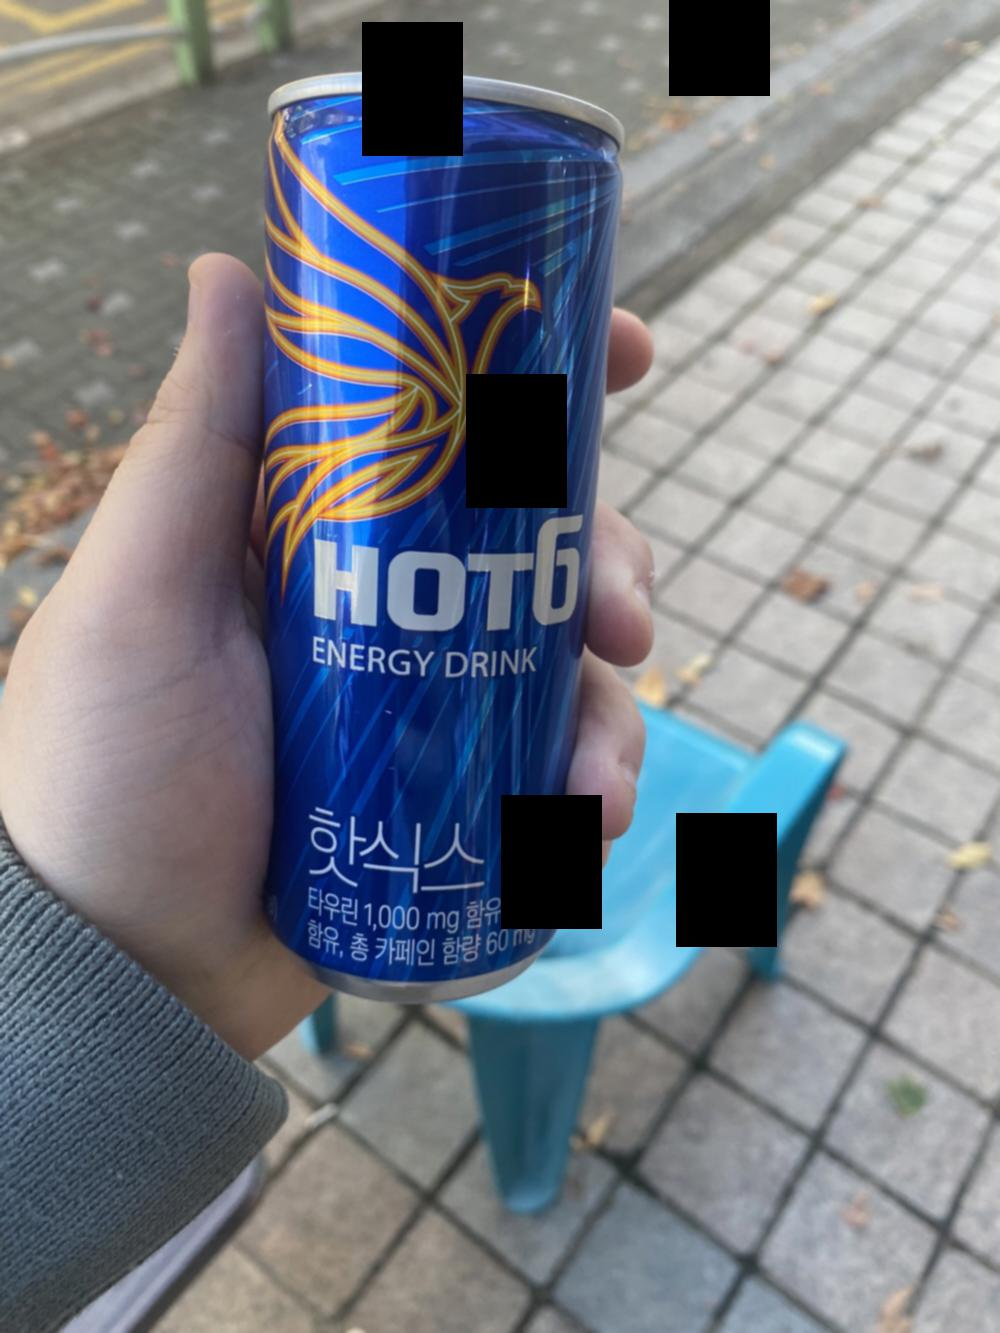hotsix_org: (251, 74, 624, 974)
